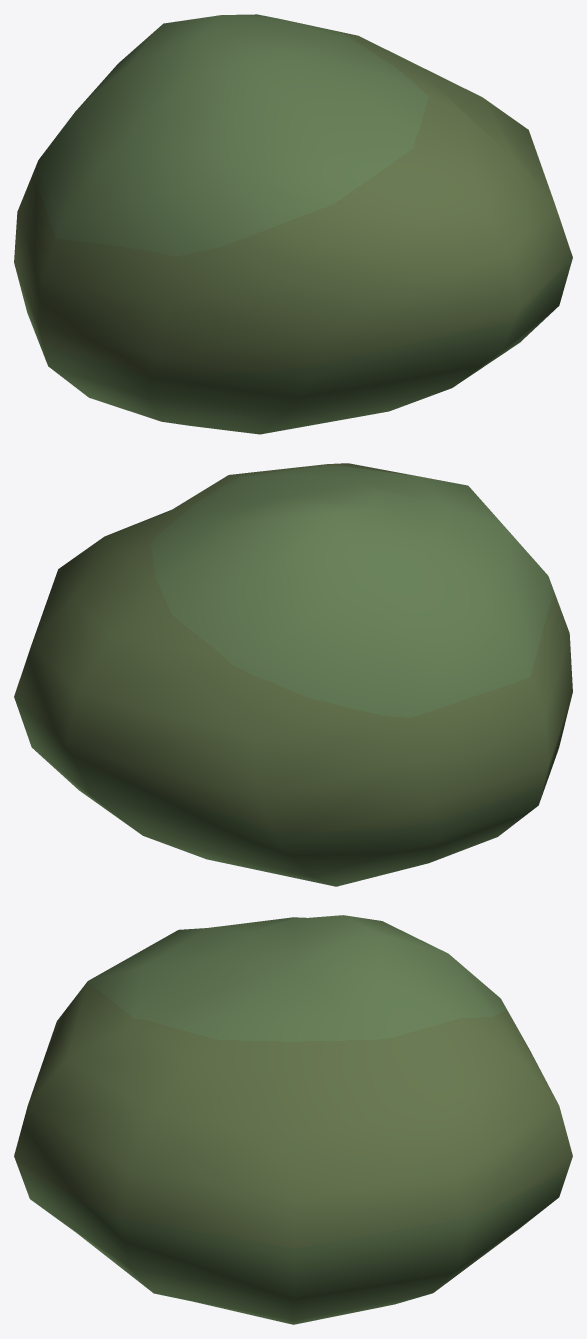
Rendered from SM_Bush_001.fbx.
The picture shows the model from 3 angles, top to bottom: view 1: azimuth 30°, elevation 25°; view 2: azimuth 150°, elevation 25°; view 3: azimuth 270°, elevation 25°; orthographic projection. The views are drawn at different scales.
Visible parts, largest first — view 1: SM_Bush_001; view 2: SM_Bush_001; view 3: SM_Bush_001.
Boxes of the visible parts, x1,y1,x2,y2 form: SM_Bush_001: (14, 14, 572, 434); SM_Bush_001: (14, 463, 572, 886); SM_Bush_001: (14, 915, 572, 1324).
Size of the model in its own units: 444 by 290 by 443.
